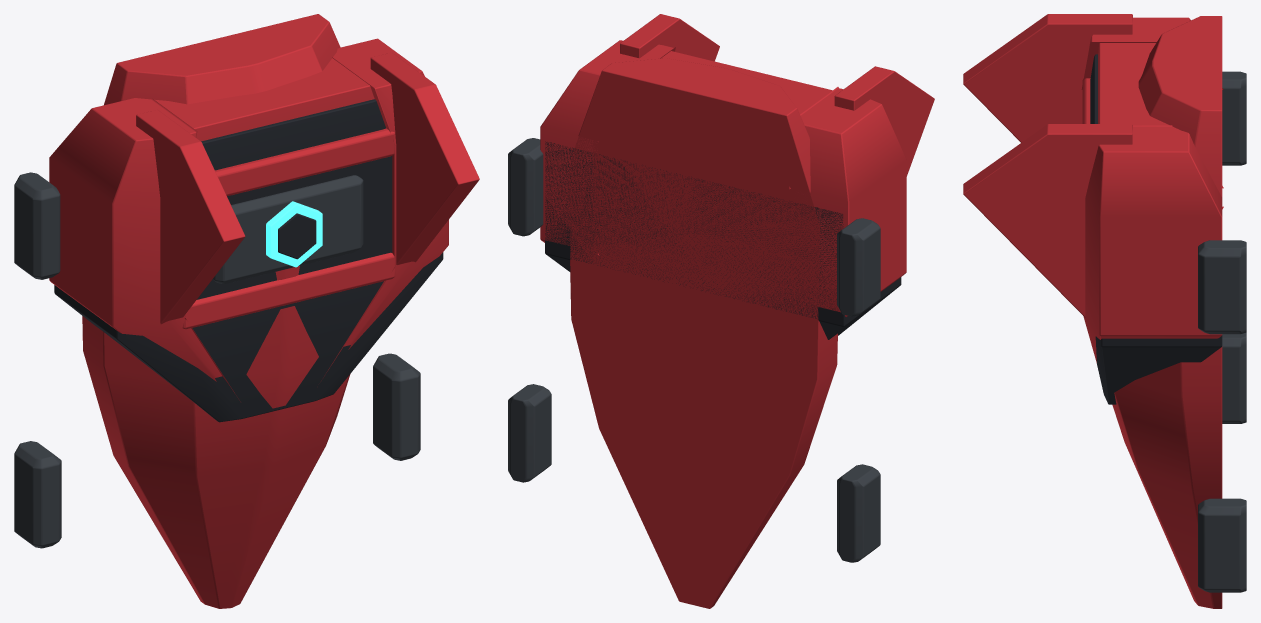
File: ThighBack_Set10_Aegis.fbx
3 views of the same model, side by side, from view 1: azimuth 30°, elevation 25°; view 2: azimuth 150°, elevation 25°; view 3: azimuth 270°, elevation 25° (orthographic). The views are drawn at different scales.
Parts seen in each view (by area): view 1: ThighBack_Set10_Aegis; view 2: ThighBack_Set10_Aegis; view 3: ThighBack_Set10_Aegis.
Part boxes in pixels (x1,y1,x2,y2): ThighBack_Set10_Aegis: (14,14,479,608); ThighBack_Set10_Aegis: (508,14,934,608); ThighBack_Set10_Aegis: (963,14,1246,608).
Size of the model in its own units: 0.53 by 0.73 by 0.3485.
